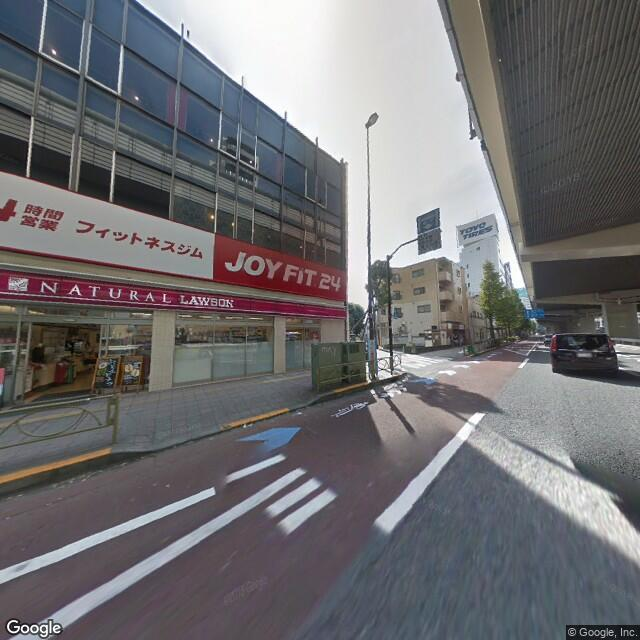lawson: (1, 264, 342, 321)
